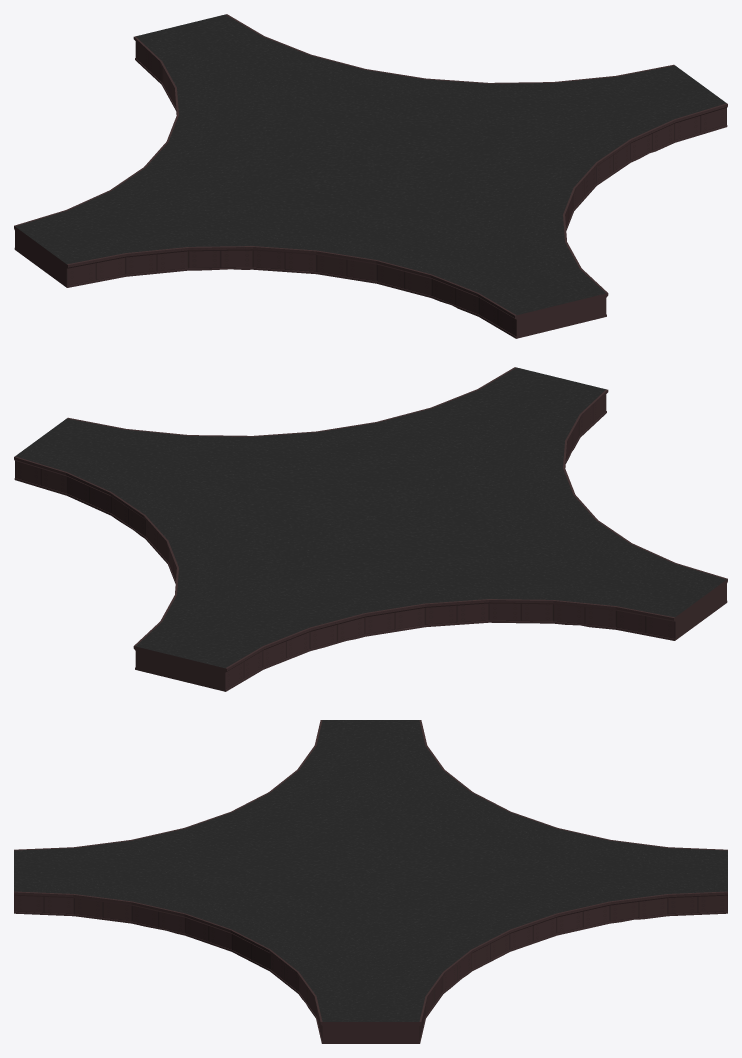
The model's file is SW_ENV_EL_TrackBase_Junction_360Deg.fbx.
3 views of the same model, one above another, from view 1: azimuth 30°, elevation 25°; view 2: azimuth 150°, elevation 25°; view 3: azimuth 270°, elevation 25° (orthographic). The views are drawn at different scales.
Parts seen in each view (by area): view 1: SW_ENV_EL_TrackBase_Junction_360Deg; view 2: SW_ENV_EL_TrackBase_Junction_360Deg; view 3: SW_ENV_EL_TrackBase_Junction_360Deg.
Part boxes in pixels (bbox=[...]): SW_ENV_EL_TrackBase_Junction_360Deg: bbox=[14, 14, 727, 338]; SW_ENV_EL_TrackBase_Junction_360Deg: bbox=[14, 367, 727, 691]; SW_ENV_EL_TrackBase_Junction_360Deg: bbox=[14, 720, 727, 1043].
Bounding box in the file's own units: 5450 × 185 × 5450.
